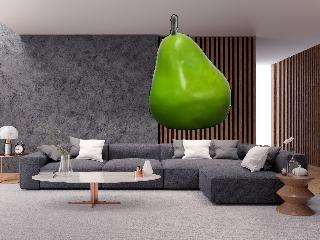pear: (146, 12, 234, 132)
